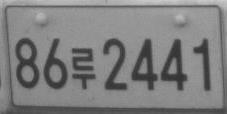1: (191, 37, 217, 91)
2: (102, 37, 127, 90)
4: (160, 37, 188, 90), (131, 37, 158, 91)
6: (42, 37, 68, 90)
8: (14, 37, 39, 89)
루: (71, 46, 96, 90)
